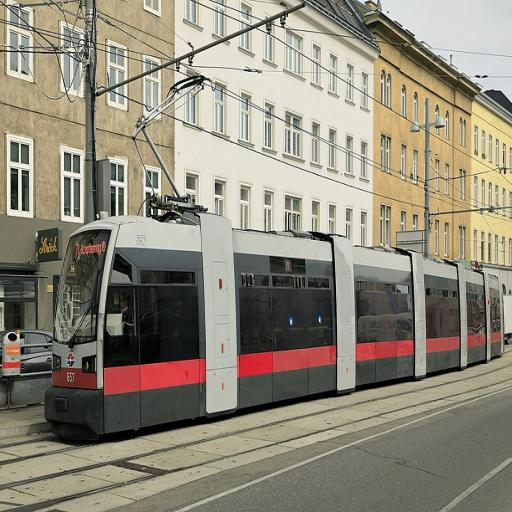ULF: (42, 216, 504, 442)
